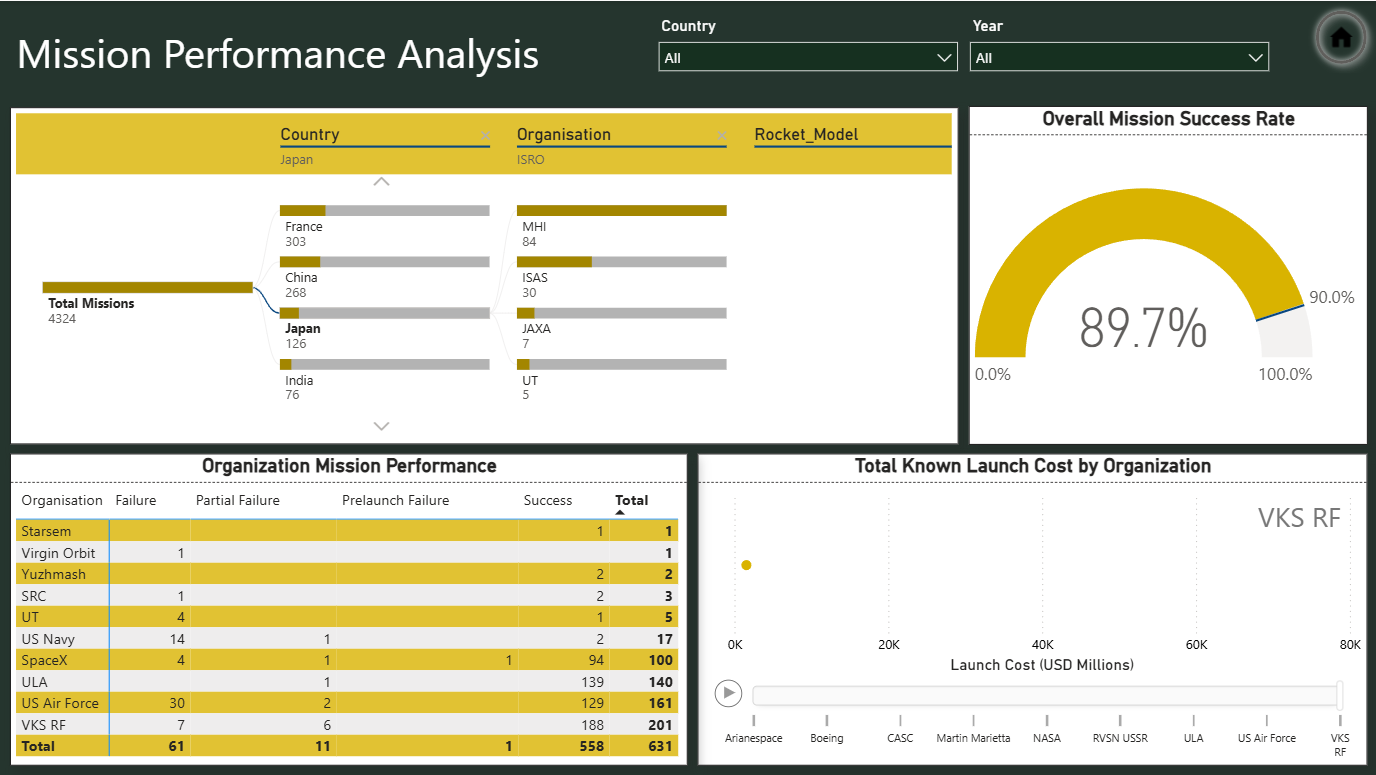

What the dashboard file says about the page in this screenshot:
{"tool":"powerbi","page":{"name":"Mission Performance","canvas":[1280,720],"ordinal":1},"visuals":[{"type":"textbox","box":[0,0,687,98.3],"z":0},{"type":"slicer","fields":{"Values":["DateTable.Year"]},"box":[891.9,9.3,298.8,97.7],"z":1000},{"type":"slicer","fields":{"Values":["mission_launches.Country"]},"box":[602.3,9.3,298.8,97.7],"z":2000},{"type":"decompositionTreeVisual","title":"Missions by Rocket Status","fields":{"Analyze":["mission_launches.Total Missions"],"ExplainBy":["mission_launches.Country","mission_launches.Organisation","mission_launches.Rocket_Model"]},"box":[9.3,98.8,882.6,314],"z":3000},{"type":"gauge","title":"Overall Mission Success Rate","fields":{"Y":["mission_launches.Success Rate"],"TargetValue":["mission_launches.Success Rate Target"]},"box":[901.2,97.7,370.9,315.1],"z":4000},{"type":"scatterChart","title":"Total Known Launch Cost by Organization","fields":{"X":["Sum(mission_launches.Price)"],"Play":["mission_launches.Organisation"]},"box":[648.8,420.9,623.3,290.7],"z":5000},{"type":"pivotTable","title":"Organization Mission Performance","fields":{"Rows":["mission_launches.Organisation"],"Values":["mission_launches.Total Missions"],"Columns":["mission_launches.Mission_Status"]},"box":[9.3,420.9,630.2,290.7],"z":6000},{"type":"actionButton","box":[1215.1,0,65.1,67.4],"z":7000}]}

Visuals, with their boxes in screenshot pixels (x1, y1, x2, y2), scaled from the page's 1280x720 canvas onto the 1376x775 screenshot:
textbox: pyautogui.locateOnScreen(0, 0, 739, 106)
slicer - DateTable.Year: pyautogui.locateOnScreen(959, 10, 1280, 115)
slicer - mission_launches.Country: pyautogui.locateOnScreen(647, 10, 969, 115)
"Missions by Rocket Status" decompositionTreeVisual: pyautogui.locateOnScreen(10, 106, 959, 444)
"Overall Mission Success Rate" gauge: pyautogui.locateOnScreen(969, 105, 1368, 444)
"Total Known Launch Cost by Organization" scatterChart: pyautogui.locateOnScreen(697, 453, 1368, 766)
"Organization Mission Performance" pivotTable: pyautogui.locateOnScreen(10, 453, 687, 766)
actionButton: pyautogui.locateOnScreen(1306, 0, 1375, 73)
